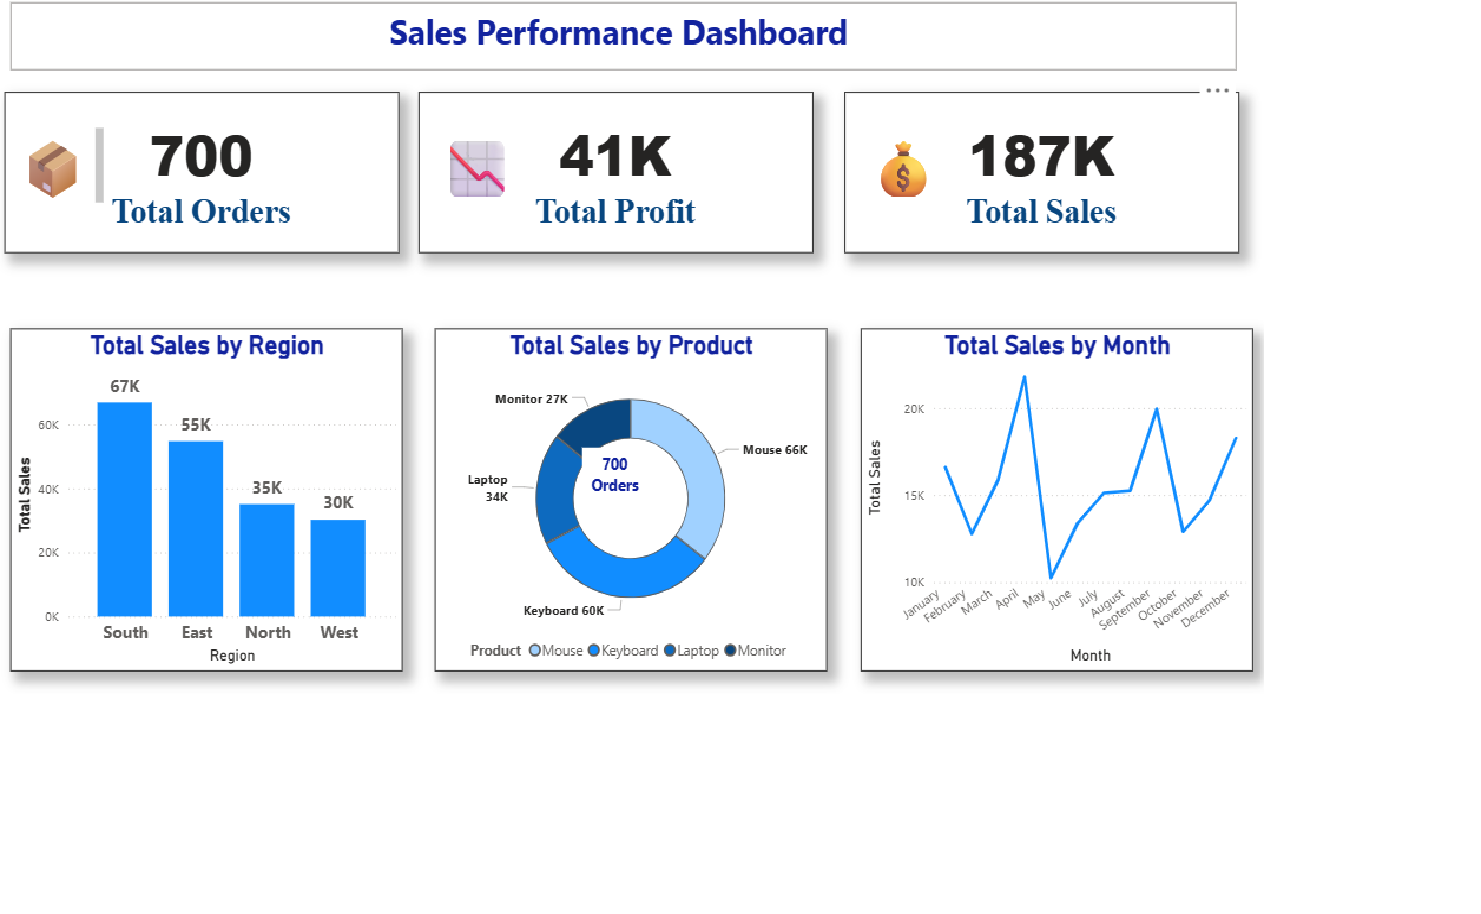

This screenshot's page, from the dashboard's own definition file:
{"tool":"powerbi","page":{"name":"Page 1","canvas":[1280,720],"ordinal":0},"visuals":[{"type":"card","fields":{"Values":["_.Total Orders"]},"box":[10,100,386,150],"z":0},{"type":"card","fields":{"Values":["_.Total Sales"]},"box":[832,100,386,150],"z":1000},{"type":"card","fields":{"Values":["_.Total Profit"]},"box":[416,100,386,150],"z":2000},{"type":"textbox","box":[16,128,96,80],"z":3000},{"type":"textbox","box":[848,128,96,96],"z":4000},{"type":"textbox","box":[432,128,80,96],"z":5000},{"type":"columnChart","fields":{"Y":["_.Total Sales"],"Category":["Query1.Region"]},"box":[16,320,384,320],"z":6000},{"type":"donutChart","fields":{"Y":["_.Total Sales"],"Category":["Query1.Product"]},"box":[432,320,384,320],"z":7000},{"type":"textbox","box":[576,432,64,64],"z":8000},{"type":"lineChart","fields":{"Category":["Query1.OrderDate.Variation.Date Hierarchy.Month"],"Y":["_.Total Sales"]},"box":[848,320,384,320],"z":9000},{"type":"textbox","box":[16,16,1200,64],"z":9001}]}

Visuals, with their boxes on the page's 1280x720 design canvas (x1, y1, x2, y2). These are canvas units, not pixel positions in the 1481x914 screenshot, which may show the page scaled, cropped or inside an application window:
card - _.Total Orders: bbox=(10, 100, 396, 250)
card - _.Total Sales: bbox=(832, 100, 1218, 250)
card - _.Total Profit: bbox=(416, 100, 802, 250)
textbox: bbox=(16, 128, 112, 208)
textbox: bbox=(848, 128, 944, 224)
textbox: bbox=(432, 128, 512, 224)
columnChart - _.Total Sales x Query1.Region: bbox=(16, 320, 400, 640)
donutChart - _.Total Sales x Query1.Product: bbox=(432, 320, 816, 640)
textbox: bbox=(576, 432, 640, 496)
lineChart - Query1.OrderDate.Variation.Date Hierarchy.Month x _.Total Sales: bbox=(848, 320, 1232, 640)
textbox: bbox=(16, 16, 1216, 80)
